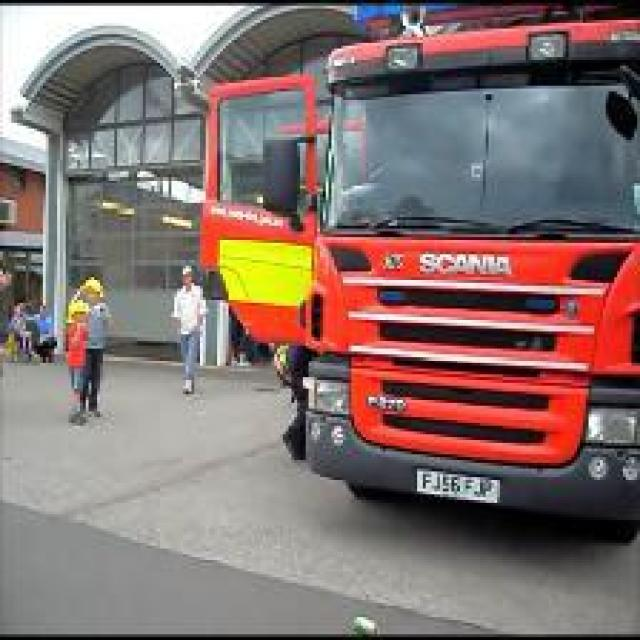other: (327, 240, 631, 468), (195, 216, 312, 336), (87, 191, 194, 230), (60, 261, 106, 329)
